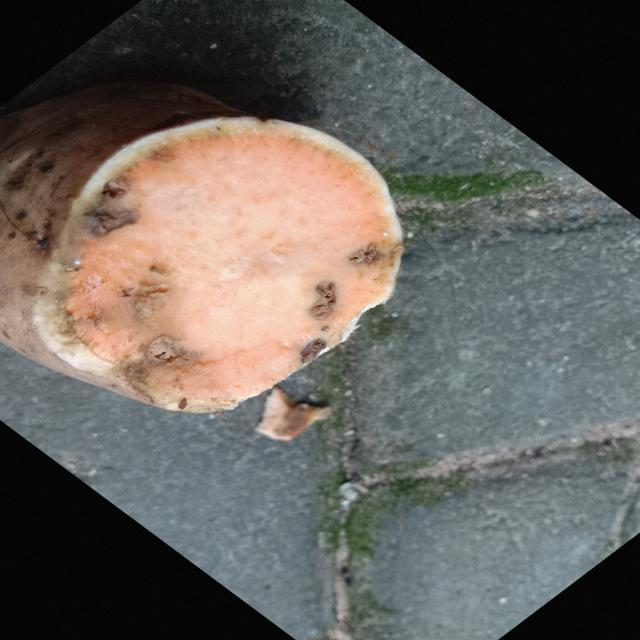Sick Sweet Potato_Tuber Rot: (33, 118, 402, 412)
